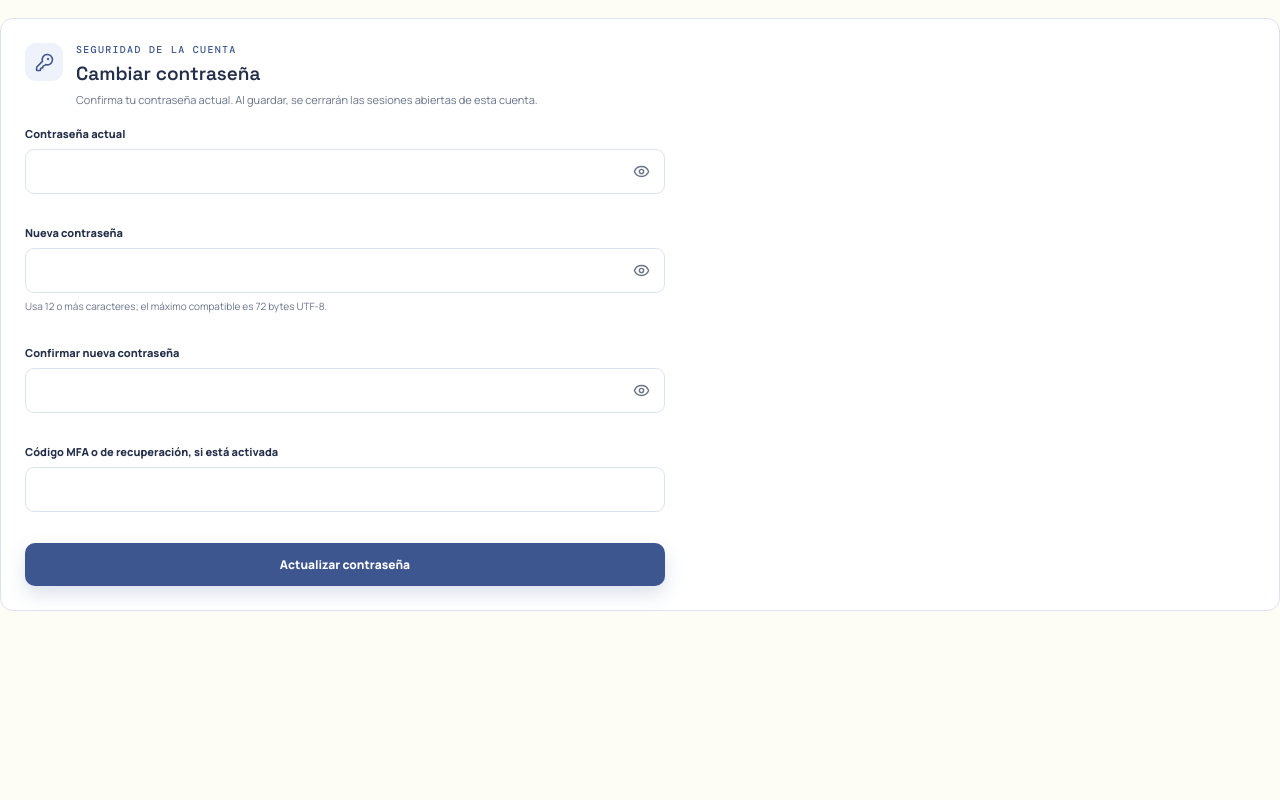
ChangePasswordCard › submits the current password, new password, and a trimmed MFA code
In the password field labelled "Contraseña actual": [345, 171] box [25,149,665,194], type "current-password"
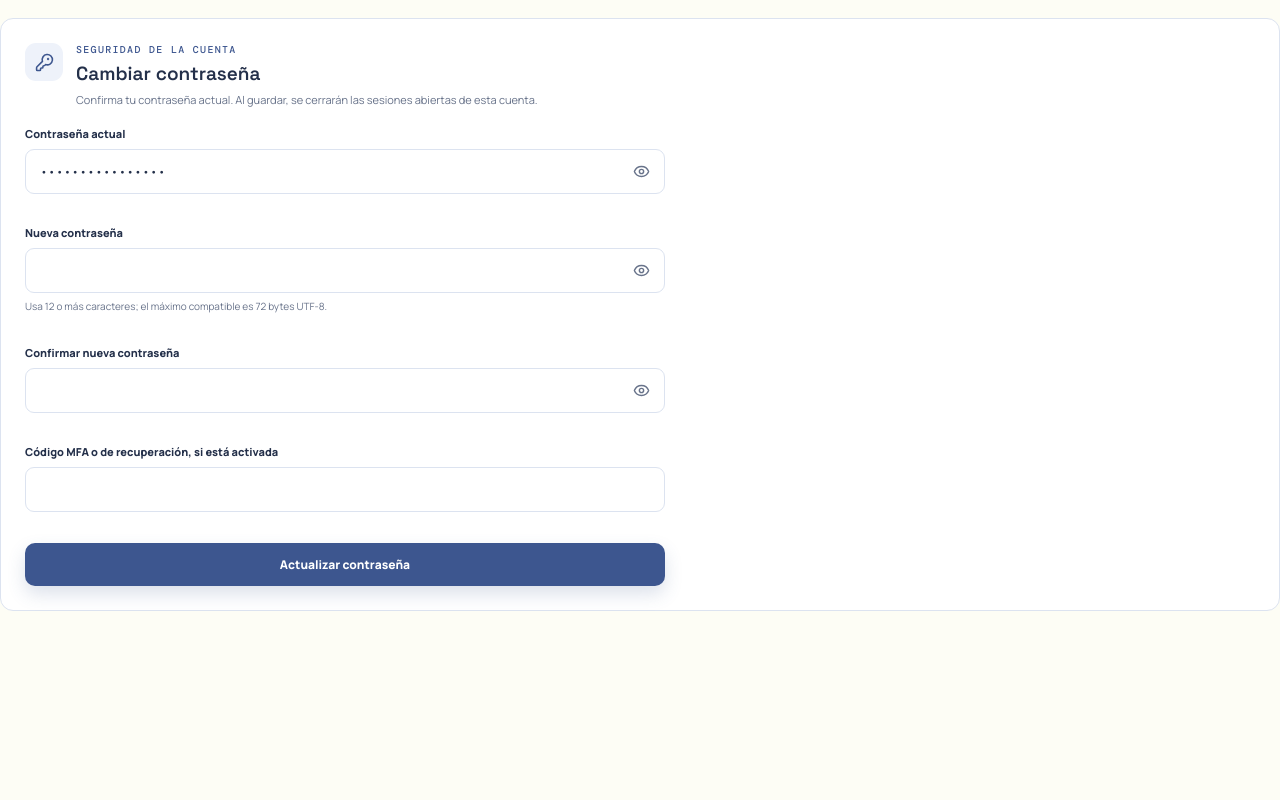
In the password field labelled "Nueva contraseña": [345, 270] box [25,248,665,293], type "a-long-new-password"
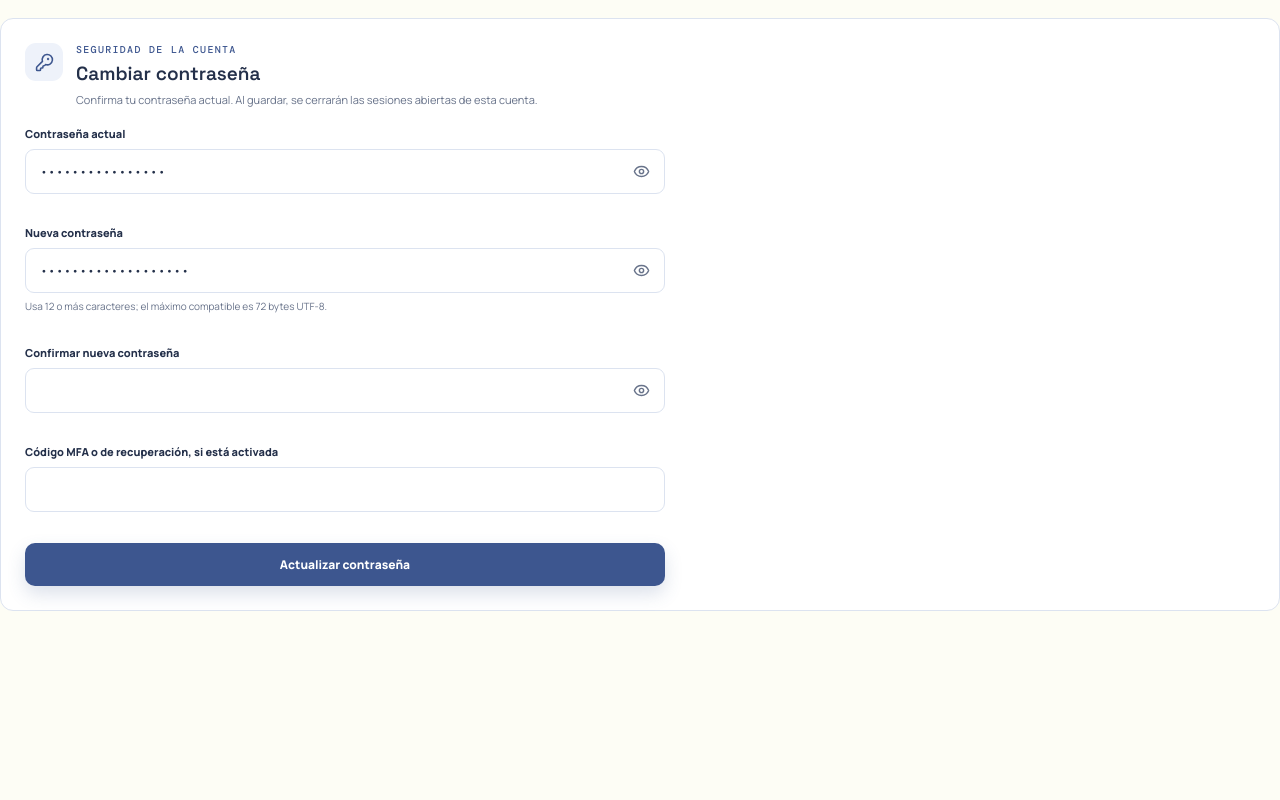
In the password field labelled "Confirmar nueva contraseña": [345, 390] box [25,368,665,413], type "a-long-new-password"
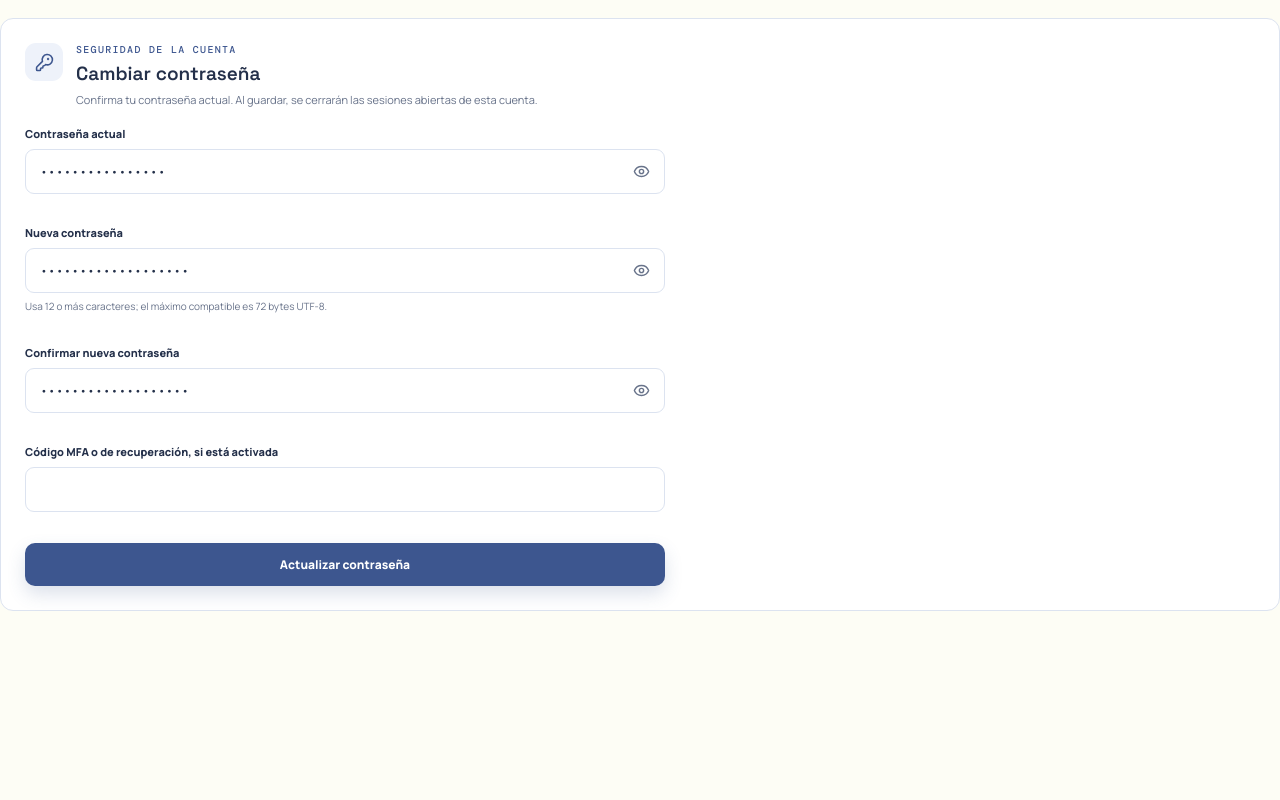
In the field labelled "Código MFA o de recuperación, si está activada": [345, 489] box [25,467,665,512], type " 123456 "
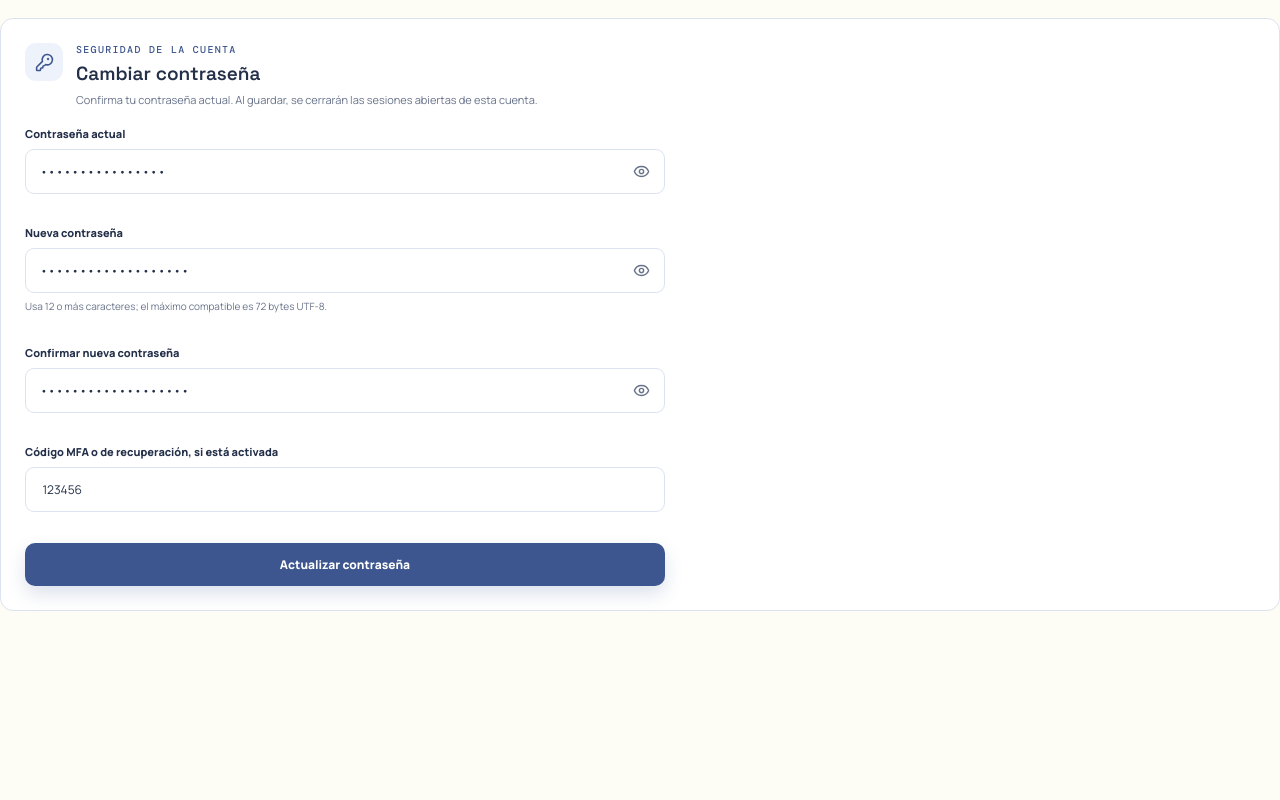
Submit the form named "Actualizar contraseña", box [25,126,665,586]
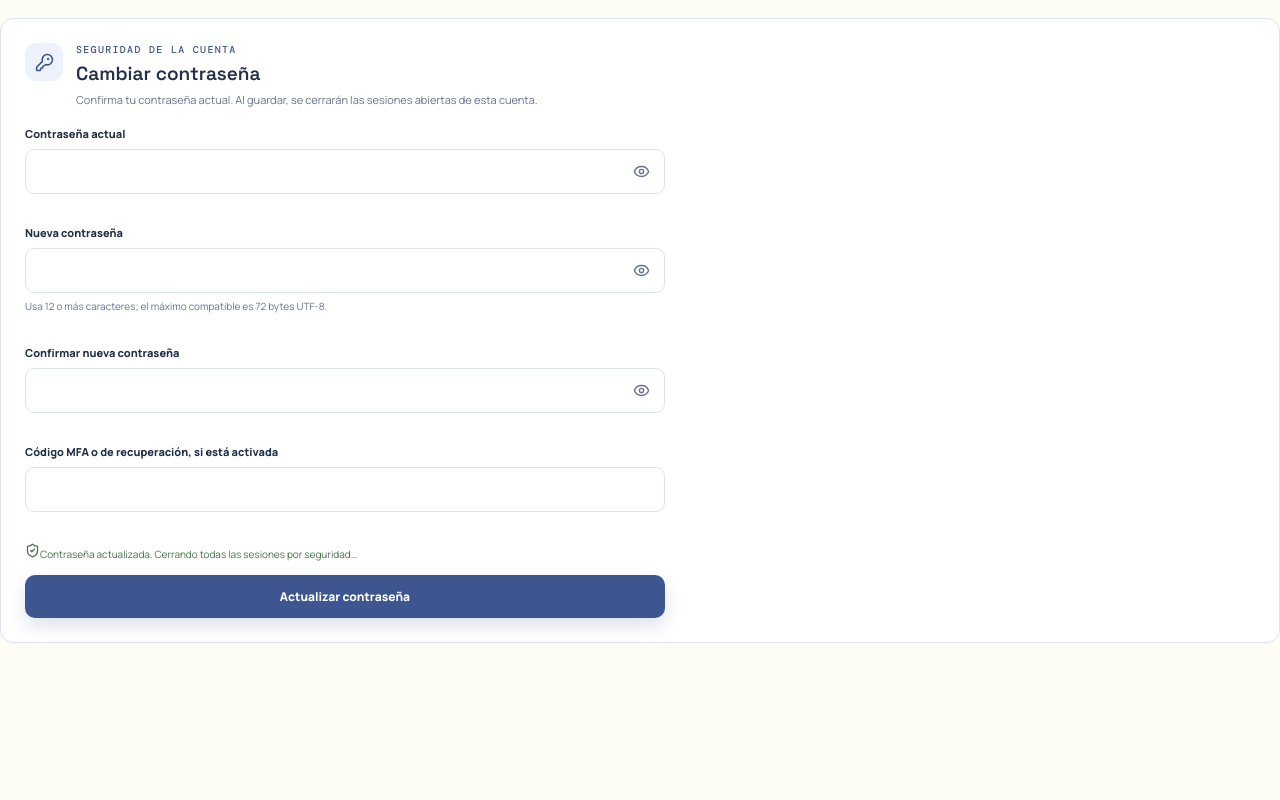
Expected: the message shows "Contraseña actualizada", [40,547,357,561]
